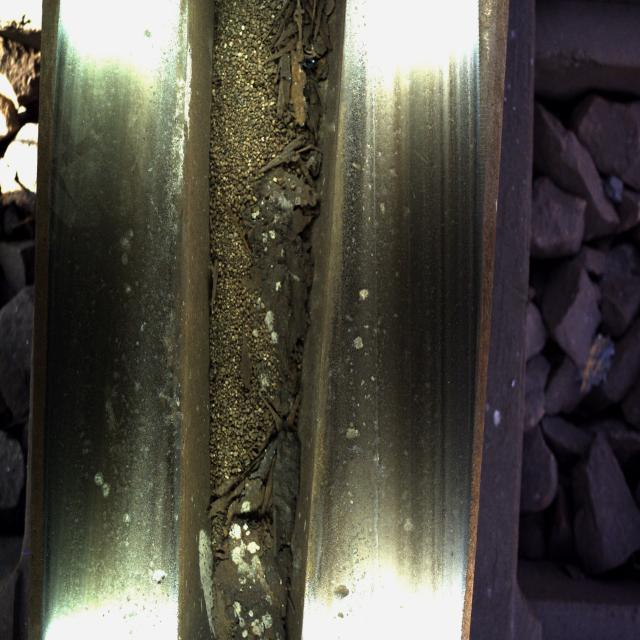scar: (65, 48, 180, 590), (322, 113, 417, 640)
